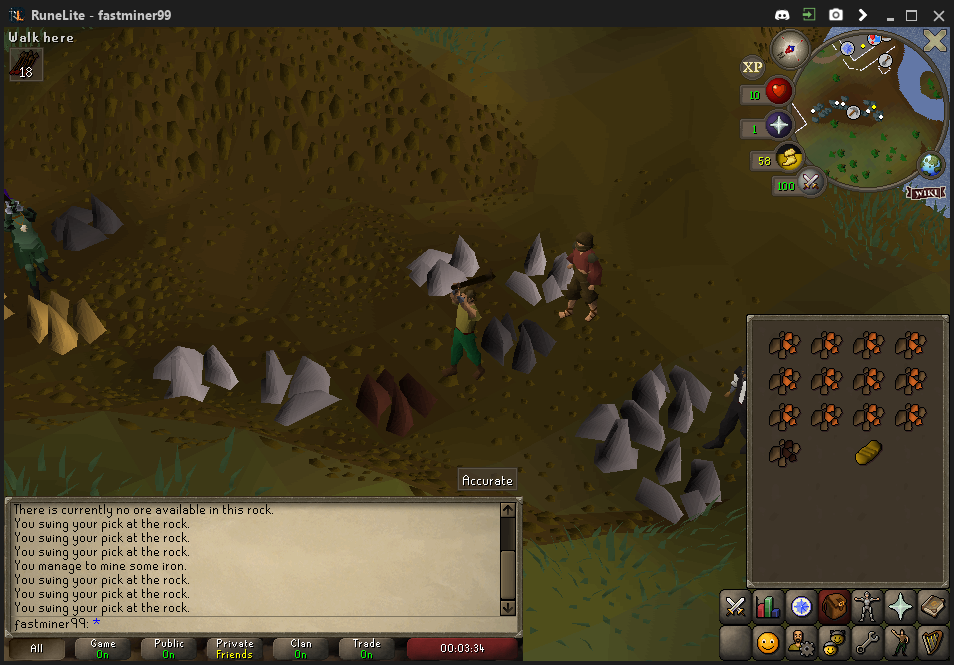depleted: (483, 312, 556, 377)
ore: (353, 370, 440, 441)
